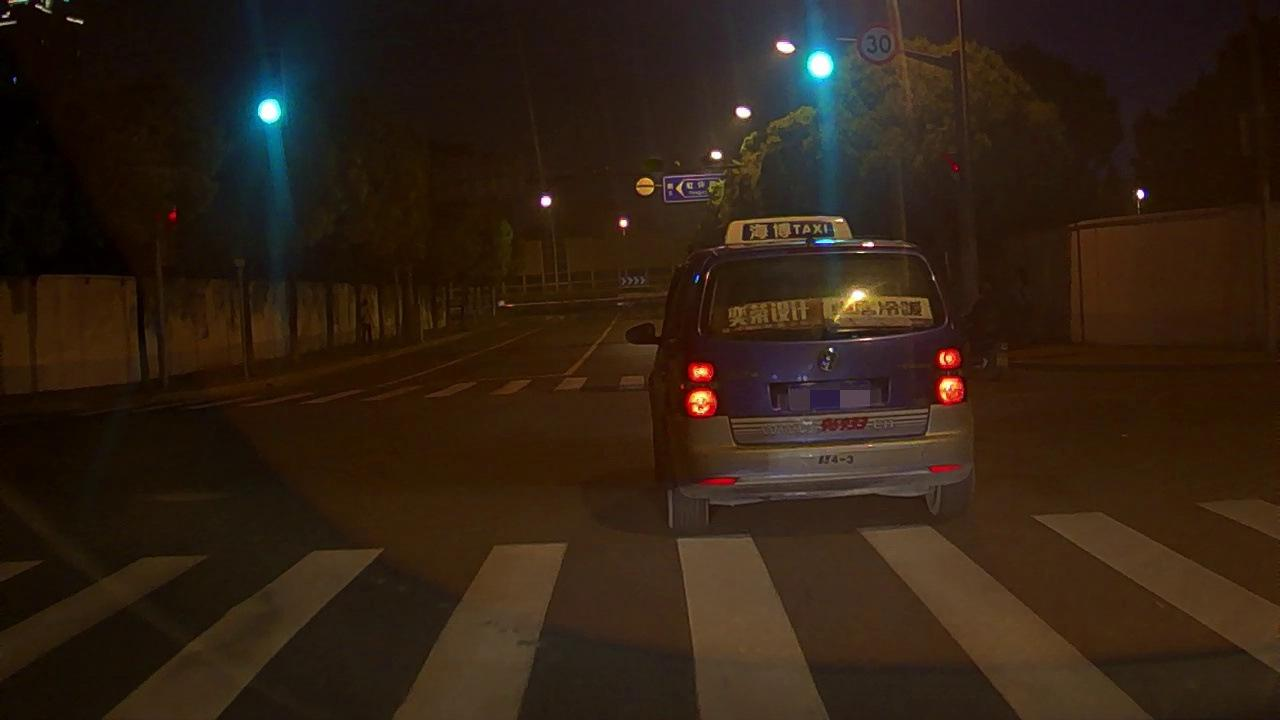traffic_light: (804, 25, 835, 93), (257, 53, 286, 125)
